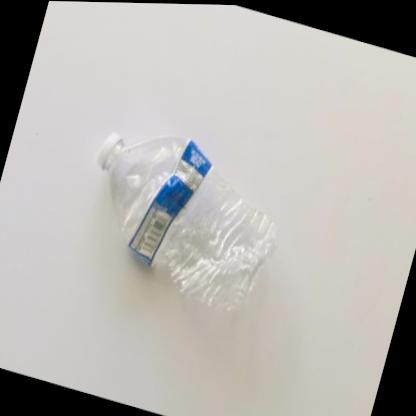Plastic: (97, 131, 277, 311)
